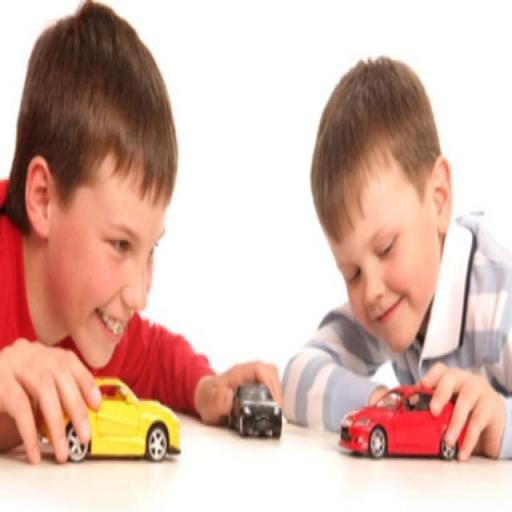baby: (0, 0, 289, 461), (280, 60, 511, 467)
